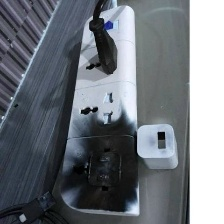three_eye_plug: (56, 2, 144, 220)
